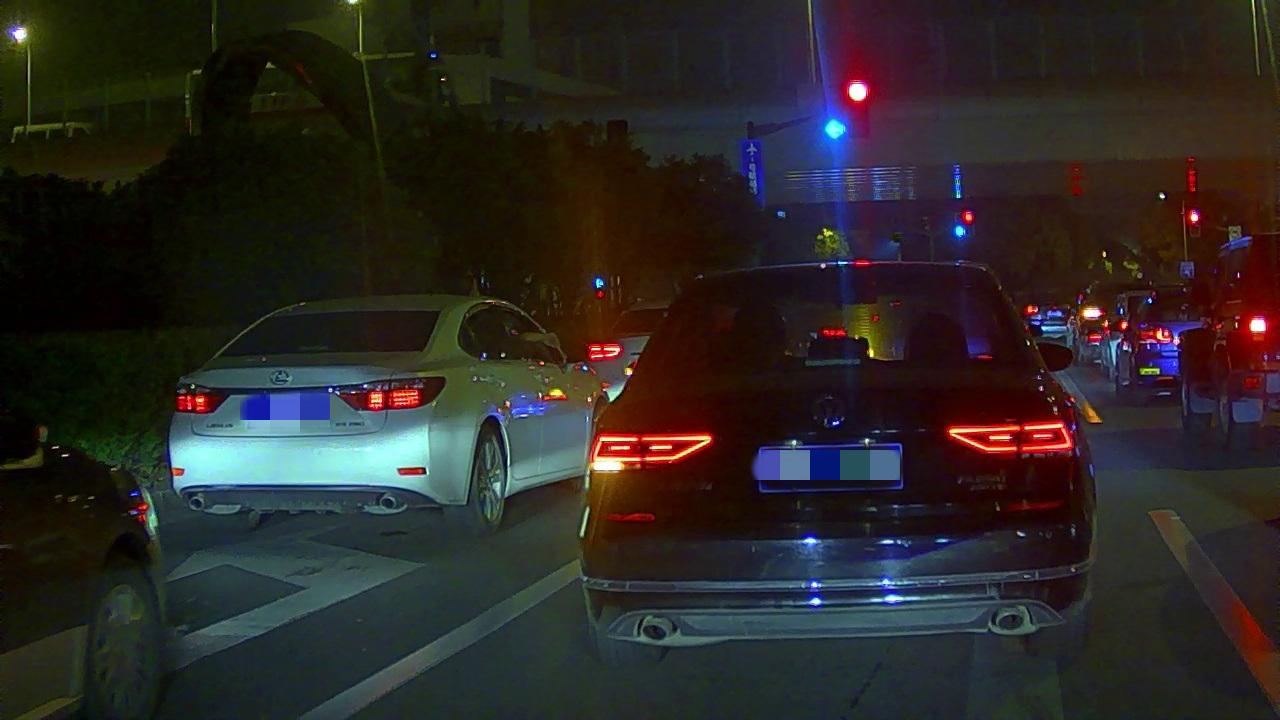traffic_light: (826, 119, 842, 140), (848, 84, 866, 99)
